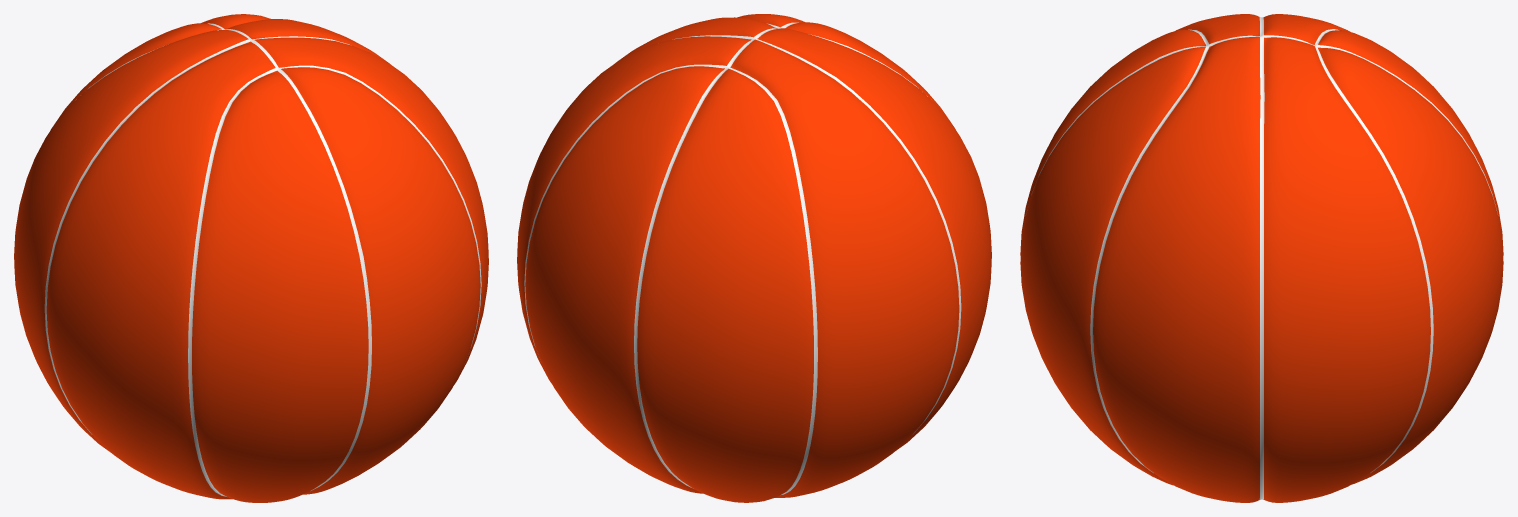
The model's file is Ball.dae.
The picture shows the model from 3 angles, left to right: view 1: azimuth 30°, elevation 25°; view 2: azimuth 150°, elevation 25°; view 3: azimuth 270°, elevation 25°; orthographic projection.
Parts seen in each view (by area): view 1: group_0 (×9); view 2: group_0 (×8); view 3: group_0 (×9).
Part boxes in pixels (x1=…): group_0 (×9): x1=14, y1=14, x2=488, y2=502; group_0 (×8): x1=517, y1=17, x2=991, y2=502; group_0 (×9): x1=1020, y1=14, x2=1503, y2=502.
Bounding box in the file's own units: 377 × 377 × 385.
